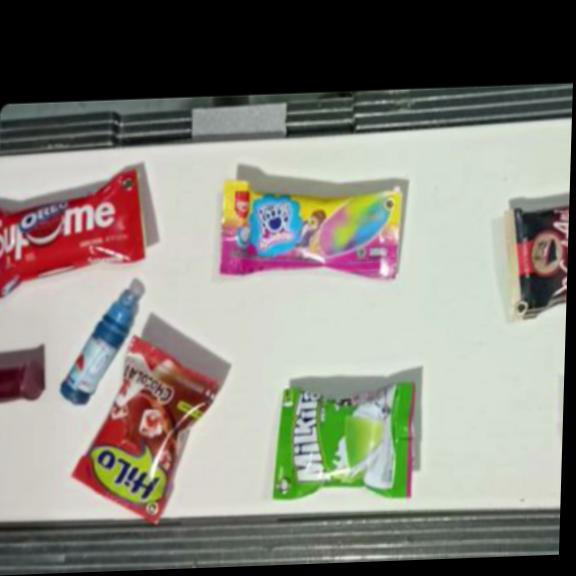Plastik: (68, 333, 222, 526), (219, 170, 405, 286), (0, 169, 146, 297), (272, 381, 416, 501), (58, 288, 138, 406), (502, 205, 569, 321), (0, 362, 46, 404)
